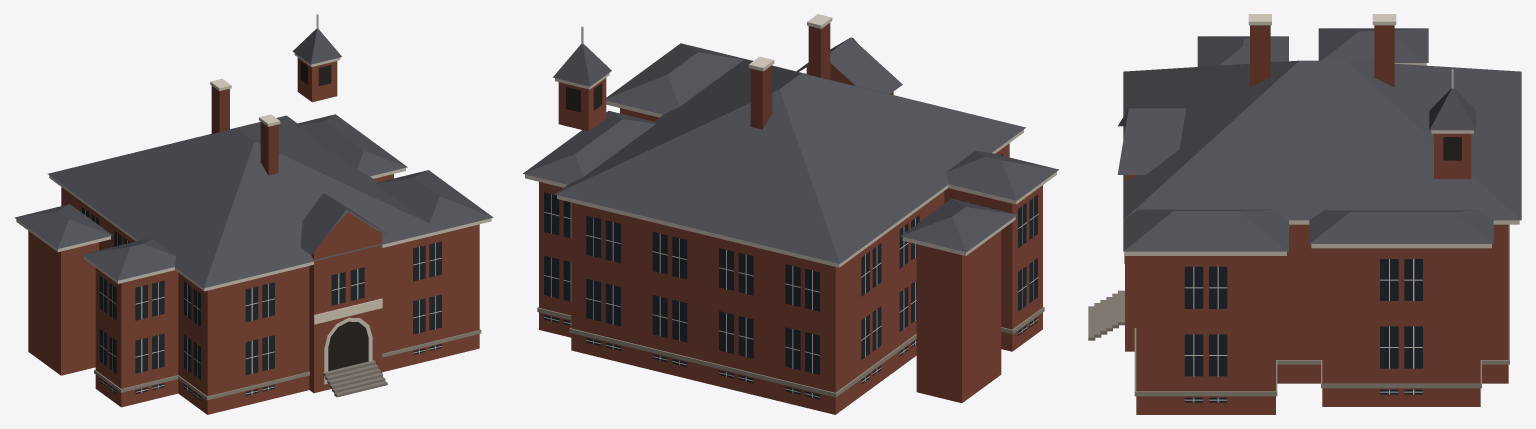
Rendered from capitol-hill-school-1913.glb.
The picture shows the model from 3 angles, left to right: view 1: azimuth 30°, elevation 25°; view 2: azimuth 150°, elevation 25°; view 3: azimuth 270°, elevation 25°; orthographic projection. The views are drawn at different scales.
Visible parts, largest first — view 1: capitol_brick, capitol_slate, capitol_glass, capitol_trim, capitol_dark, capitol_brick2, capitol_base, capitol_stone, capitol_sash, capitol_cream; view 2: capitol_slate, capitol_brick, capitol_glass, capitol_trim, capitol_sash, capitol_brick2, capitol_stone, capitol_dark; view 3: capitol_slate, capitol_brick, capitol_glass, capitol_trim, capitol_stone, capitol_brick2, capitol_base, capitol_sash, capitol_dark.
Part boxes in pixels (box(x1,y1,x2,y2)): capitol_brick: box(28, 57, 479, 414); capitol_slate: box(14, 29, 493, 288); capitol_glass: box(82, 207, 441, 400); capitol_trim: box(16, 14, 491, 384); capitol_dark: box(300, 61, 368, 370); capitol_brick2: box(211, 86, 278, 175); capitol_base: box(322, 360, 387, 397); capitol_stone: box(94, 329, 481, 400); capitol_sash: box(85, 209, 441, 398); capitol_cream: box(314, 298, 382, 324); capitol_slate: box(523, 37, 1058, 263); capitol_brick: box(539, 37, 1042, 414); capitol_glass: box(544, 154, 1037, 399); capitol_trim: box(525, 14, 1056, 267); capitol_sash: box(544, 194, 1038, 397); capitol_brick2: box(750, 23, 830, 129); capitol_stone: box(537, 307, 1044, 397); capitol_dark: box(566, 83, 602, 112); capitol_slate: box(1117, 28, 1521, 251); capitol_brick: box(1125, 127, 1508, 414); capitol_glass: box(1184, 259, 1422, 402); capitol_trim: box(1125, 14, 1519, 255); capitol_stone: box(1134, 224, 1509, 396); capitol_brick2: box(1250, 25, 1394, 87); capitol_base: box(1088, 290, 1124, 340); capitol_sash: box(1184, 259, 1422, 402); capitol_dark: box(1443, 137, 1461, 160).
Bounding box in the file's own units: 28.4 × 19.05 × 23.27.
